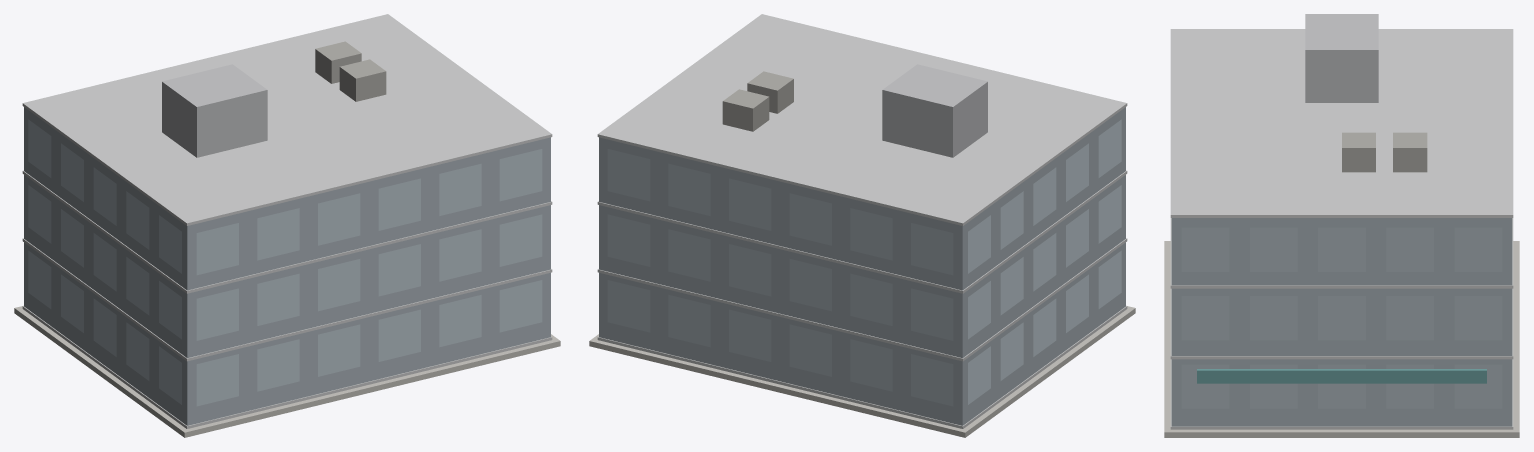
File: 14_public_services-09.glb
3 renders of one model, left to right at view 1: azimuth 30°, elevation 25°; view 2: azimuth 150°, elevation 25°; view 3: azimuth 270°, elevation 25°, orthographic. The views are drawn at different scales.
Bounding box in the file's own units: 18.6 × 12.38 × 14.6.
